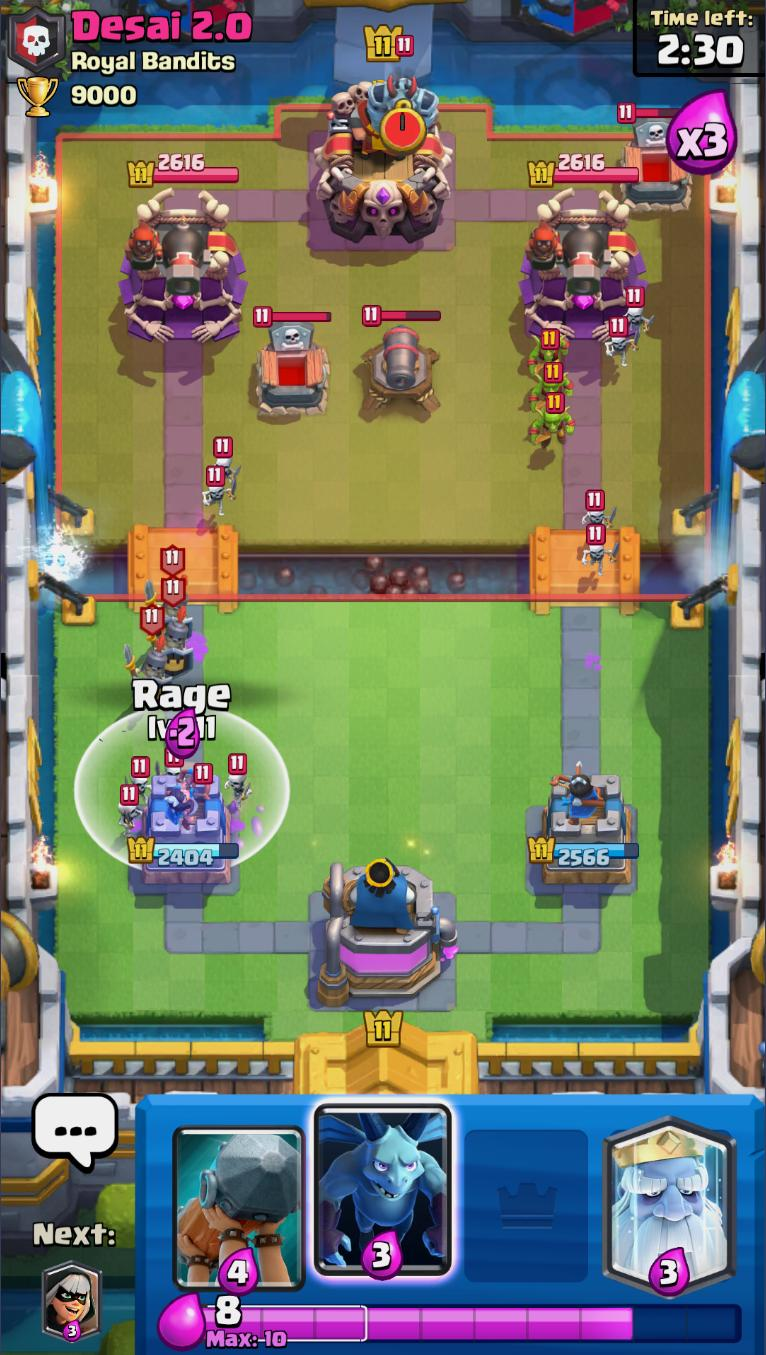BanditNext: (41, 1261, 101, 1346)
BattleRamDeck: (167, 1094, 313, 1294)
Cannon: (359, 303, 444, 419)
Cannoneer: (524, 214, 609, 300), (127, 216, 207, 300)
Elixir: (203, 1296, 743, 1346)
Empty: (456, 1096, 597, 1293)
EnemyTower: (121, 187, 250, 343), (520, 189, 650, 343)
Goblin: (531, 391, 573, 449), (531, 361, 573, 409), (529, 330, 570, 374)
Guards: (150, 577, 197, 677), (124, 606, 174, 687), (144, 546, 190, 616)
KingTower: (314, 77, 456, 246)
MegaMinion: (367, 36, 437, 136)
MinionsDeck: (310, 1094, 456, 1299)
MyKingTower: (319, 860, 457, 1011)
MyPrincessTower: (527, 774, 641, 890), (127, 776, 241, 890)
MyPrincessTowerHP: (127, 833, 241, 869), (526, 836, 641, 869)
RoyaleGhostDeck: (596, 1096, 741, 1293)
Skeleton: (200, 466, 237, 517), (223, 753, 256, 810), (583, 523, 619, 574), (581, 491, 619, 536), (623, 290, 656, 340), (211, 436, 243, 486), (606, 317, 640, 364), (124, 754, 153, 804), (117, 784, 144, 836), (159, 747, 187, 777)
Tombstone: (250, 306, 334, 419), (616, 103, 694, 214)
TowerPrincessHP: (129, 153, 241, 189), (529, 153, 640, 189)
